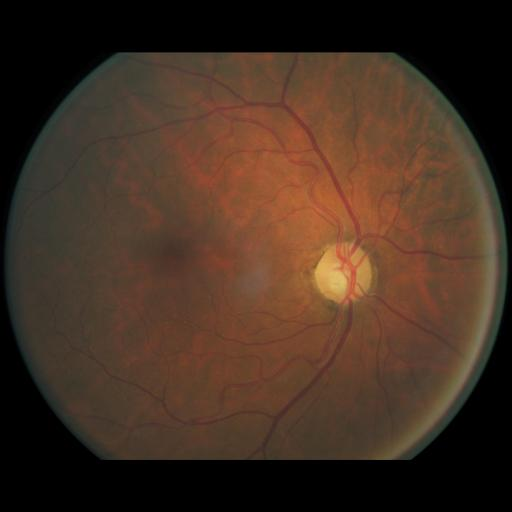Optic Cup: (330, 261, 356, 293)
Optic Disc: (315, 241, 370, 305)
